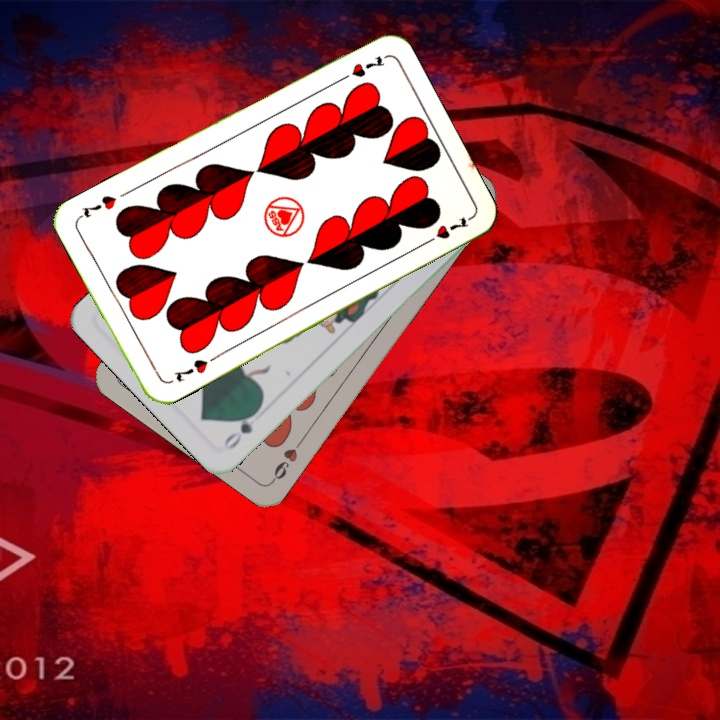GO: (219, 404, 263, 453)
H7: (333, 51, 387, 86), (169, 352, 219, 385)
H9: (268, 433, 307, 485)
